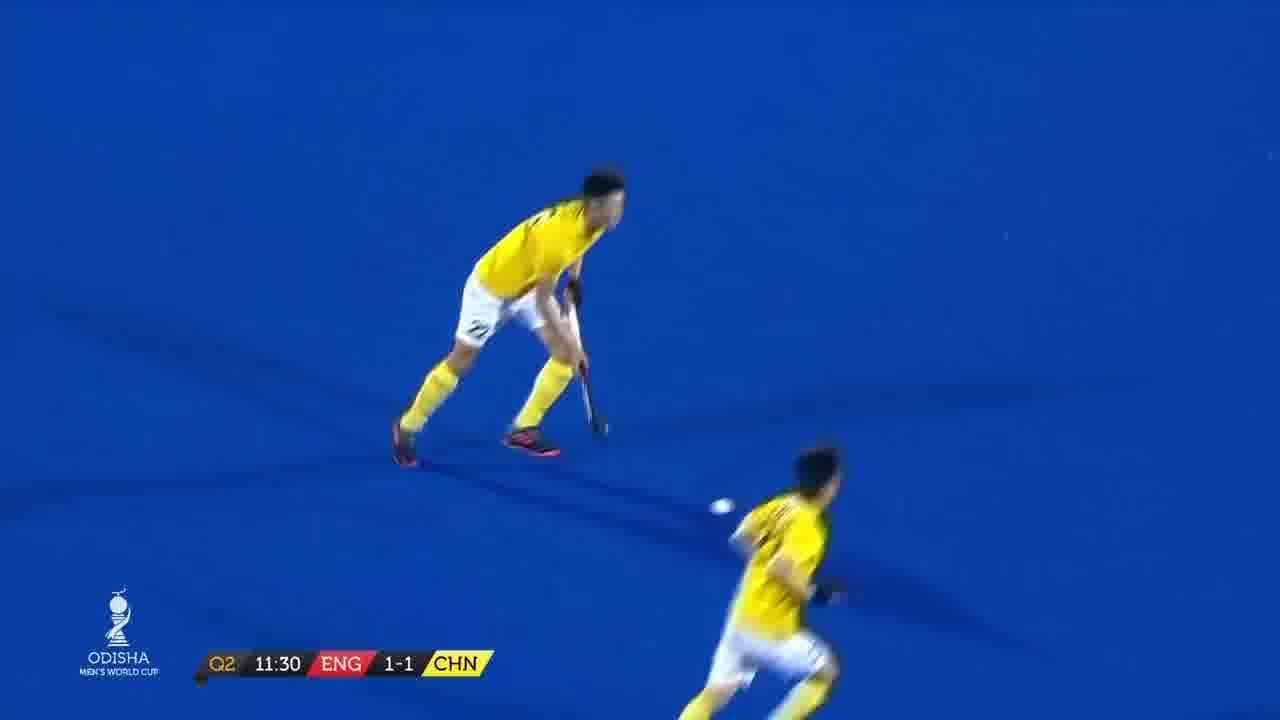ball: (710, 486, 744, 524)
